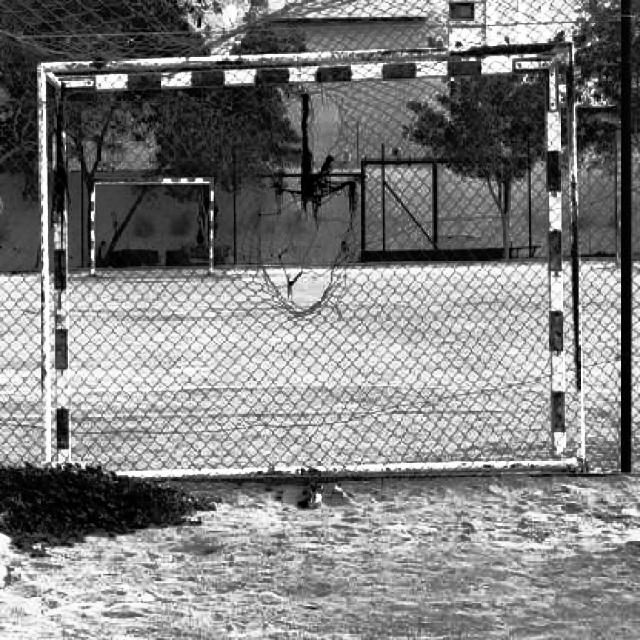anomaly-fence: (232, 143, 382, 323)
